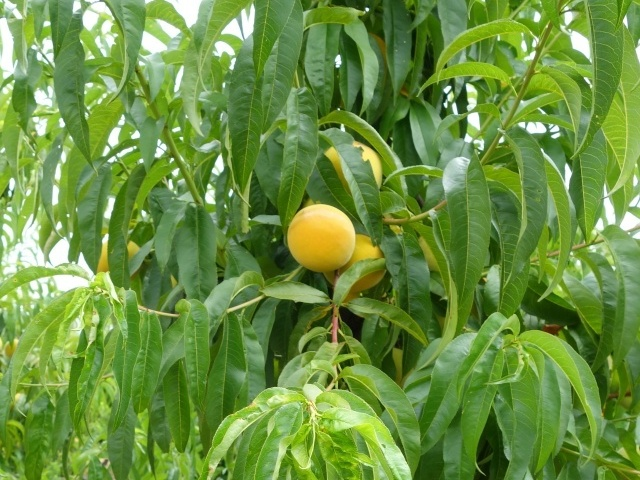peach: (281, 200, 358, 280), (319, 227, 396, 299), (317, 130, 386, 199), (95, 236, 145, 288)
